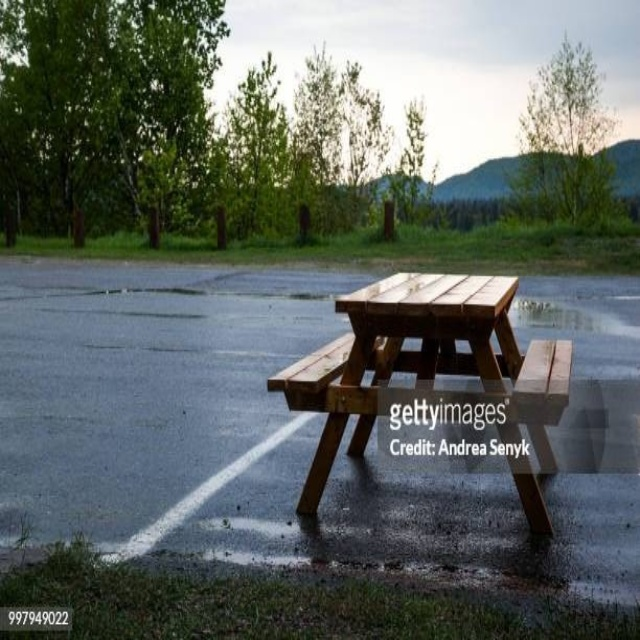obstacle: (268, 273, 571, 533)
